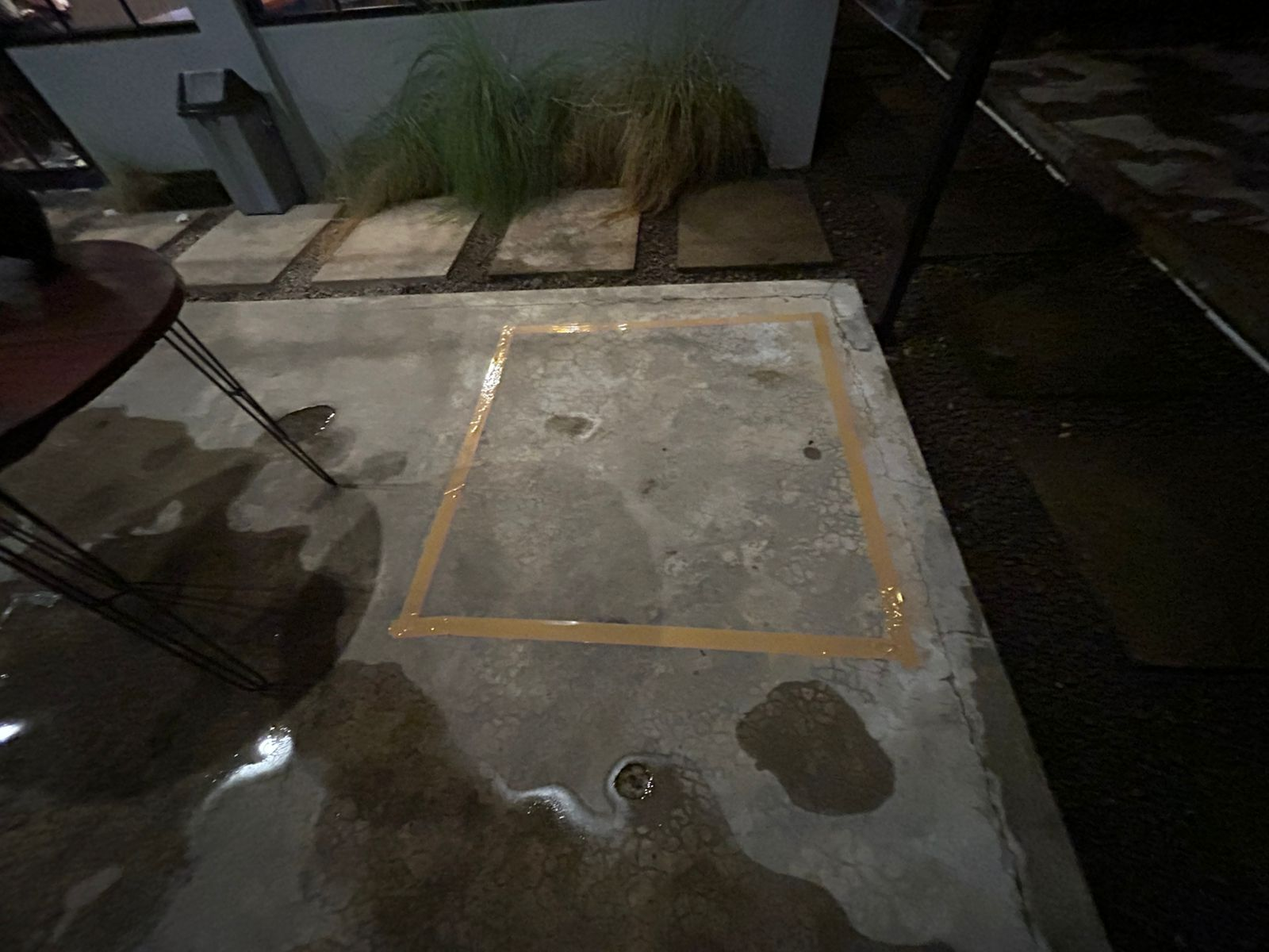floor marking: (389, 313, 916, 666)
